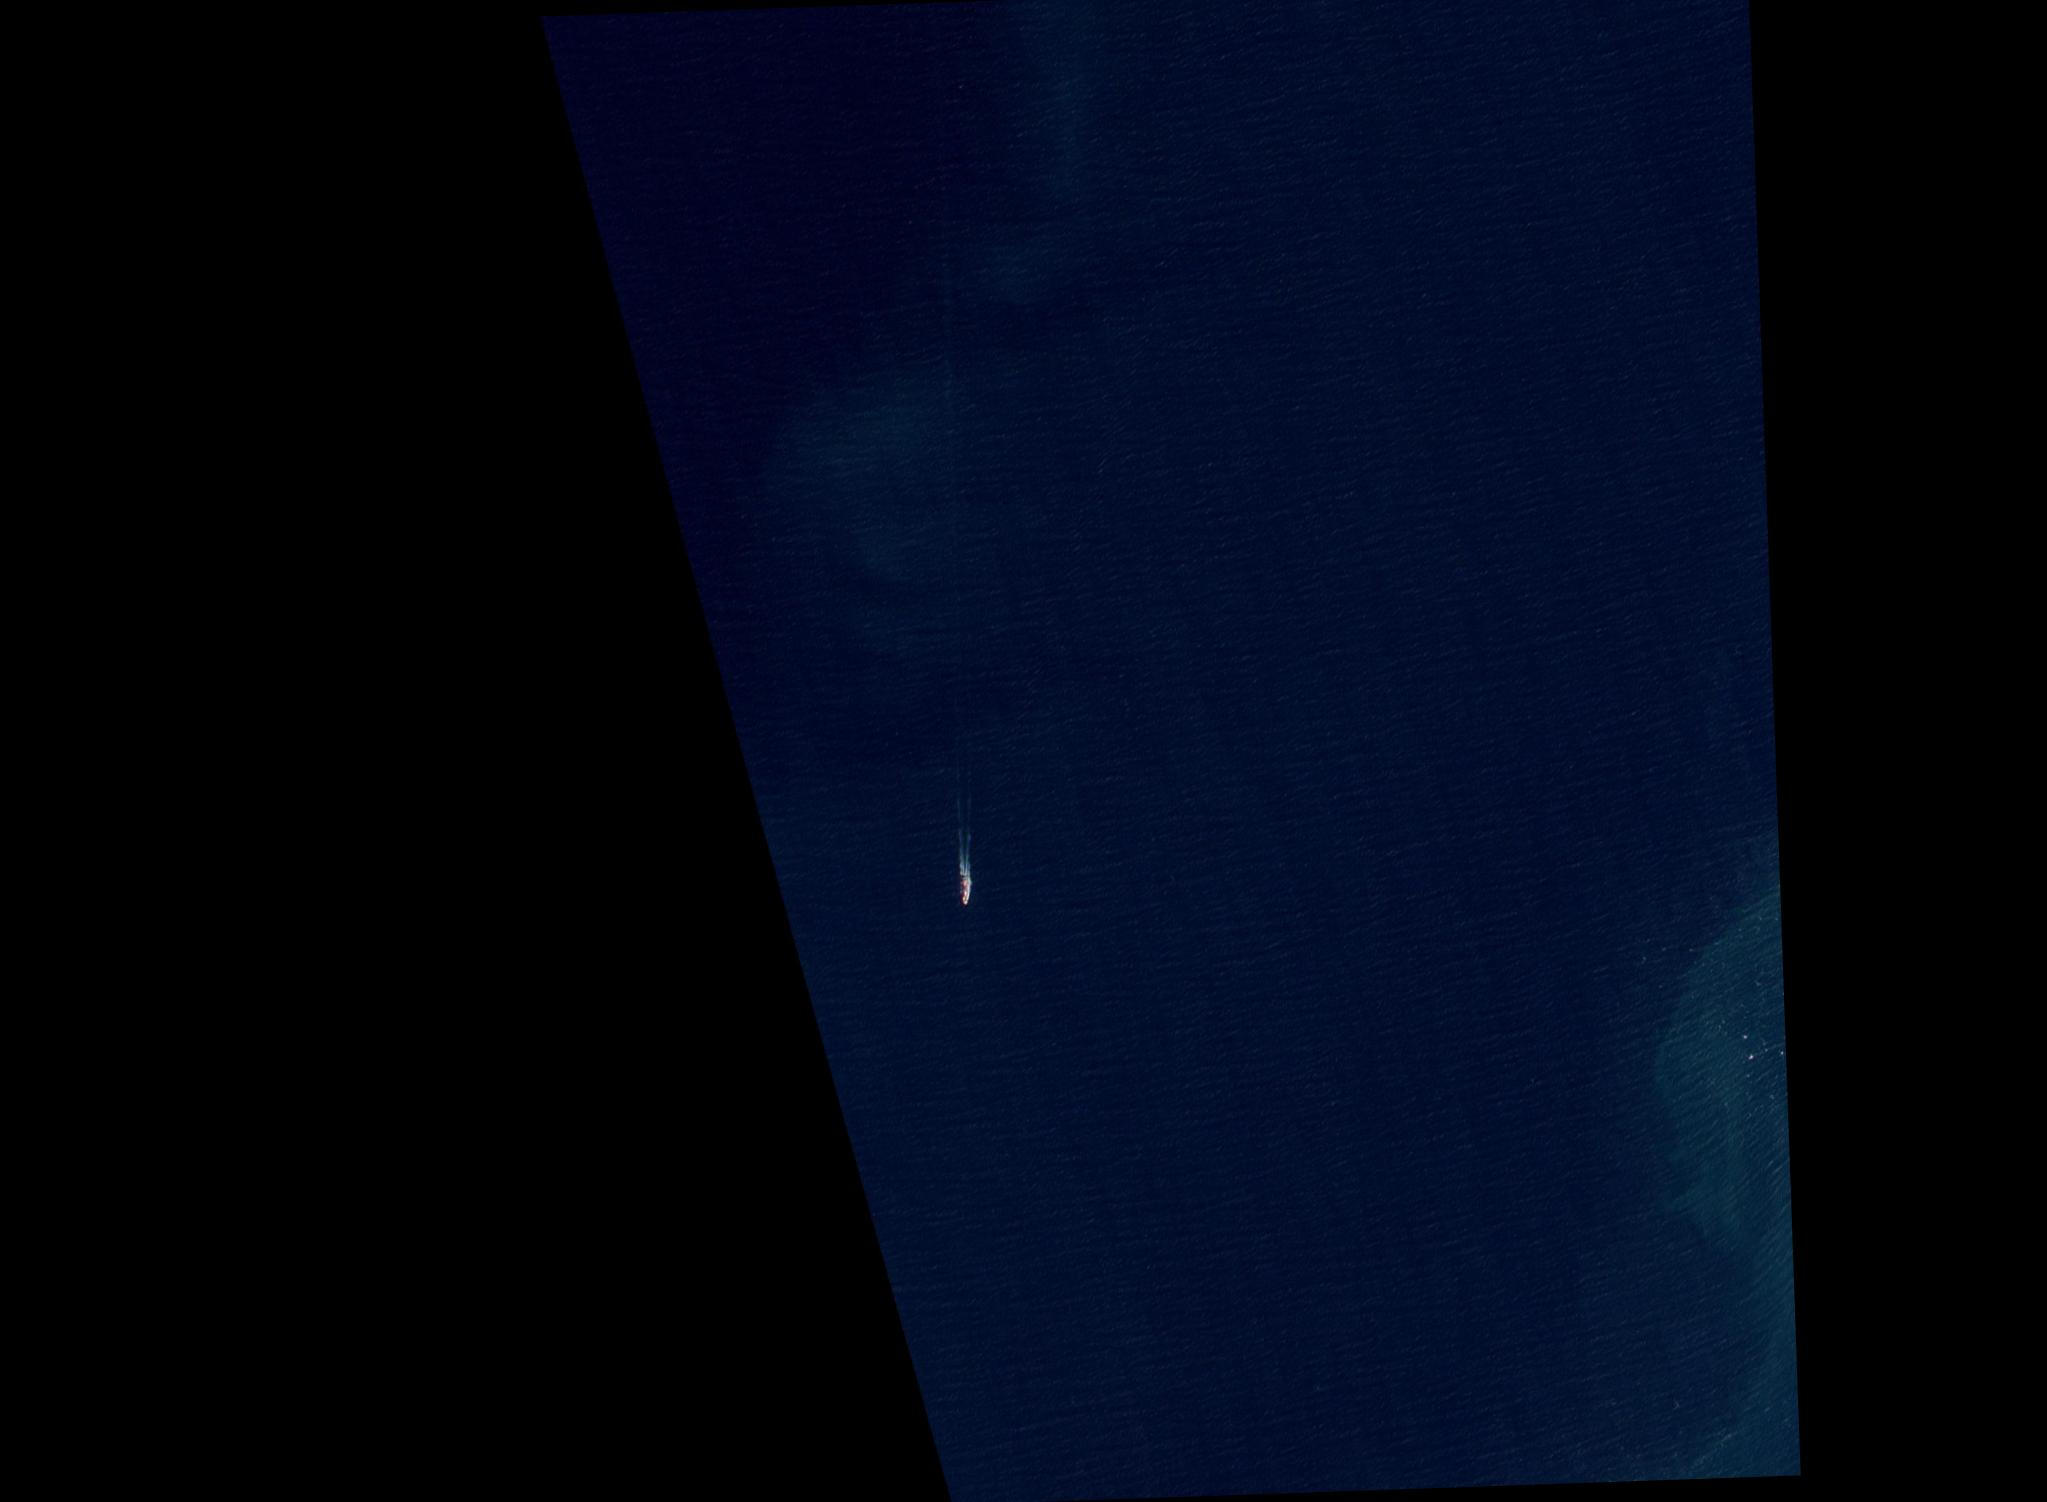ship: (947, 671, 979, 876), (958, 871, 973, 906)
